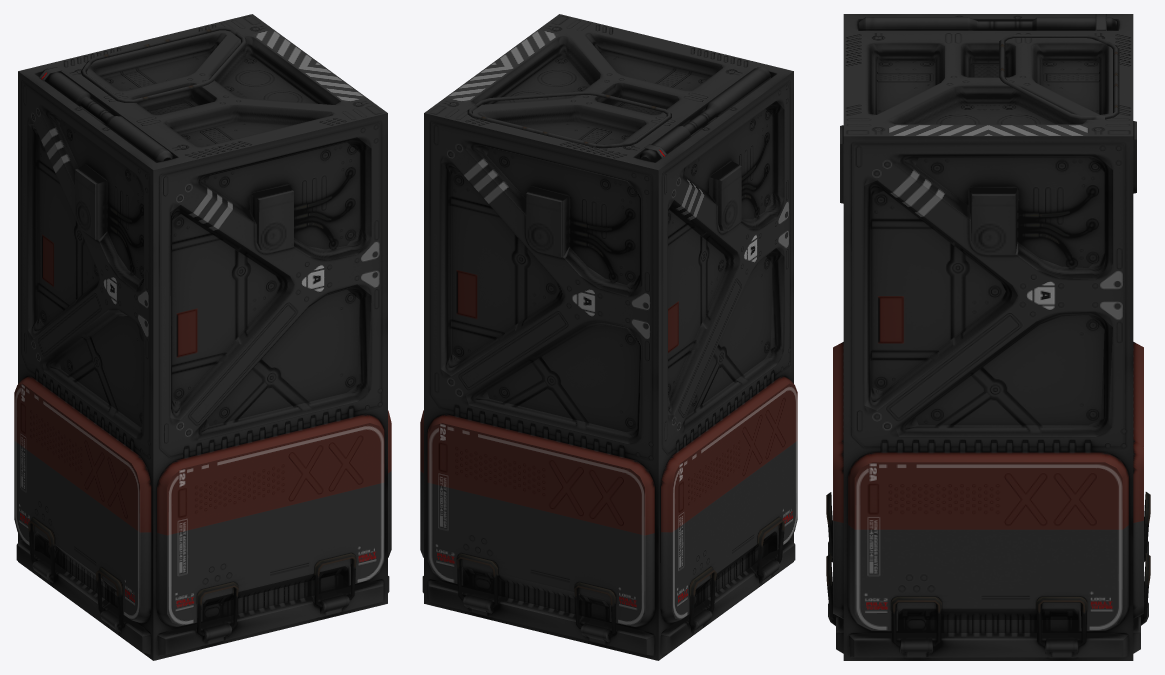
The model's file is Panel_A_Box_1.FBX.
3 views of the same model, side by side, from view 1: azimuth 30°, elevation 25°; view 2: azimuth 150°, elevation 25°; view 3: azimuth 270°, elevation 25° (orthographic). The views are drawn at different scales.
Parts seen in each view (by area): view 1: Panel_A_Box_1; view 2: Panel_A_Box_1; view 3: Panel_A_Box_1.
Boxes of the visible parts, <box> form: Panel_A_Box_1: <box>14,14,391,660</box>; Panel_A_Box_1: <box>420,14,797,660</box>; Panel_A_Box_1: <box>826,14,1150,660</box>.
Size of the model in its own units: 112 by 206 by 112.
